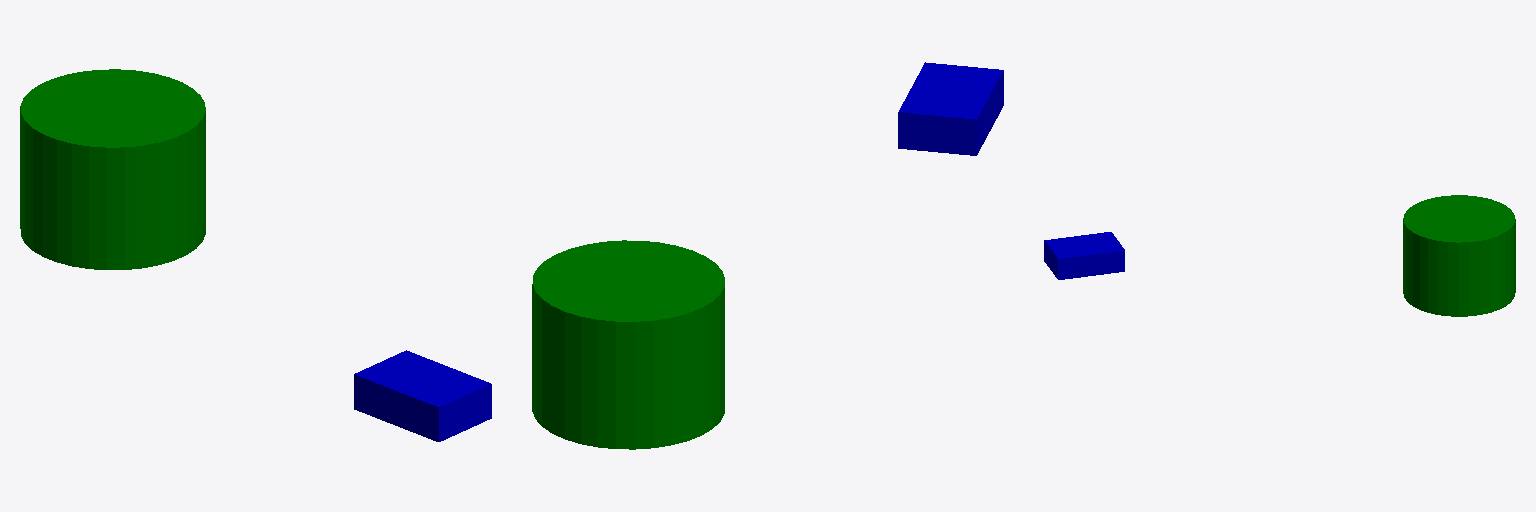
robot.urdf — orca5_1:
<?xml version="1.0"?>
<robot name="orca5_1">

  <!-- Base link -->
  <link name="base_link">
    <inertial>
      <origin xyz="0 0 0.011" rpy="0 0 0"/>
      <mass value="10.0"/>
      <inertia ixx="0.1024" ixy="0.0" ixz="0.0" iyy="0.1840" iyz="0.0" izz="0.2785"/>
    </inertial>
    <visual>
      <origin xyz="0 0 0" rpy="0 0 0"/>
      <geometry>
        <mesh filename="package://orca_bringup/urdf/meshes/bluerov2.dae" scale="0.025 0.025 0.025"/>
      </geometry>
    </visual>
    <collision>
      <origin xyz="0 0 0.06" rpy="0 0 0"/>
      <geometry>
        <box size="0.457 0.338 0.0673"/>
      </geometry>
    </collision>
  </link>

  <!-- Materials -->
  <material name="camera_blue">
    <color rgba="0.0 0.0 0.8 1.0"/>
  </material>

  <material name="ping_green">
    <color rgba="0.0 0.5 0.0 1.0"/>
  </material>

  <!-- Camera link, rendered as a box so I can see the rotation -->
  <link name="camera_link">
    <inertial>
      <origin xyz="0 0 0" rpy="0 0 0"/>
      <mass value="0.1"/>
      <inertia ixx="0.001" ixy="0.0" ixz="0.0" iyy="0.001" iyz="0.0" izz="0.001"/>
    </inertial>
    <visual>
      <origin xyz="0 0 0" rpy="0 0 0"/>
      <geometry>
        <box size="0.01 0.03 0.02"/>
      </geometry>
      <material name="camera_blue"/>
    </visual>
  </link>

  <joint name="camera_joint" type="fixed">
    <origin xyz="0.035 -0.08 -0.085" rpy="0 1.5707963267948966 0.3"/>
    <parent link="base_link"/>
    <child link="camera_link"/>
  </joint>

  <!-- Ping sonar link -->
  <link name="ping_link">
    <inertial>
      <origin xyz="0 0 0" rpy="0 0 0"/>
      <mass value="0.133"/>
      <inertia ixx="0.001" ixy="0.0" ixz="0.0" iyy="0.001" iyz="0.0" izz="0.001"/>
    </inertial>
    <visual>
      <origin xyz="0 0 0" rpy="0 0 0"/>
      <geometry>
        <cylinder length="0.035" radius="0.024"/>
      </geometry>
      <material name="ping_green"/>
    </visual>
  </link>

  <joint name="ping_joint" type="fixed">
    <origin xyz="0.035 0.08 -0.085" rpy="0 0 0"/>
    <parent link="base_link"/>
    <child link="ping_link"/>
  </joint>

</robot>

--- Render facts (derived) ---
The picture shows the robot from 3 angles, left to right: view 1: azimuth 30°, elevation 25°; view 2: azimuth 150°, elevation 25°; view 3: azimuth 270°, elevation 25°; orthographic projection.
Robot: orca5_1 — 3 links, 2 joints (2 fixed); root link base_link; default pose: all joints at 0.
Links seen in each view (by area): view 1: ping_link, camera_link; view 2: ping_link, camera_link; view 3: ping_link, camera_link.
Link boxes in pixels (x1,y1,x2,y2): ping_link: [20, 69, 205, 269]; camera_link: [354, 350, 491, 441]; ping_link: [532, 240, 724, 449]; camera_link: [898, 62, 1003, 155]; ping_link: [1403, 195, 1515, 316]; camera_link: [1044, 232, 1124, 279].
Size in the robot's own frame: 0.048 by 0.2013 by 0.035 metres.
0 mesh visuals loaded from 1 distinct referenced files (none loaded); not drawn: 1 (reference not matched to a file when rendering).
